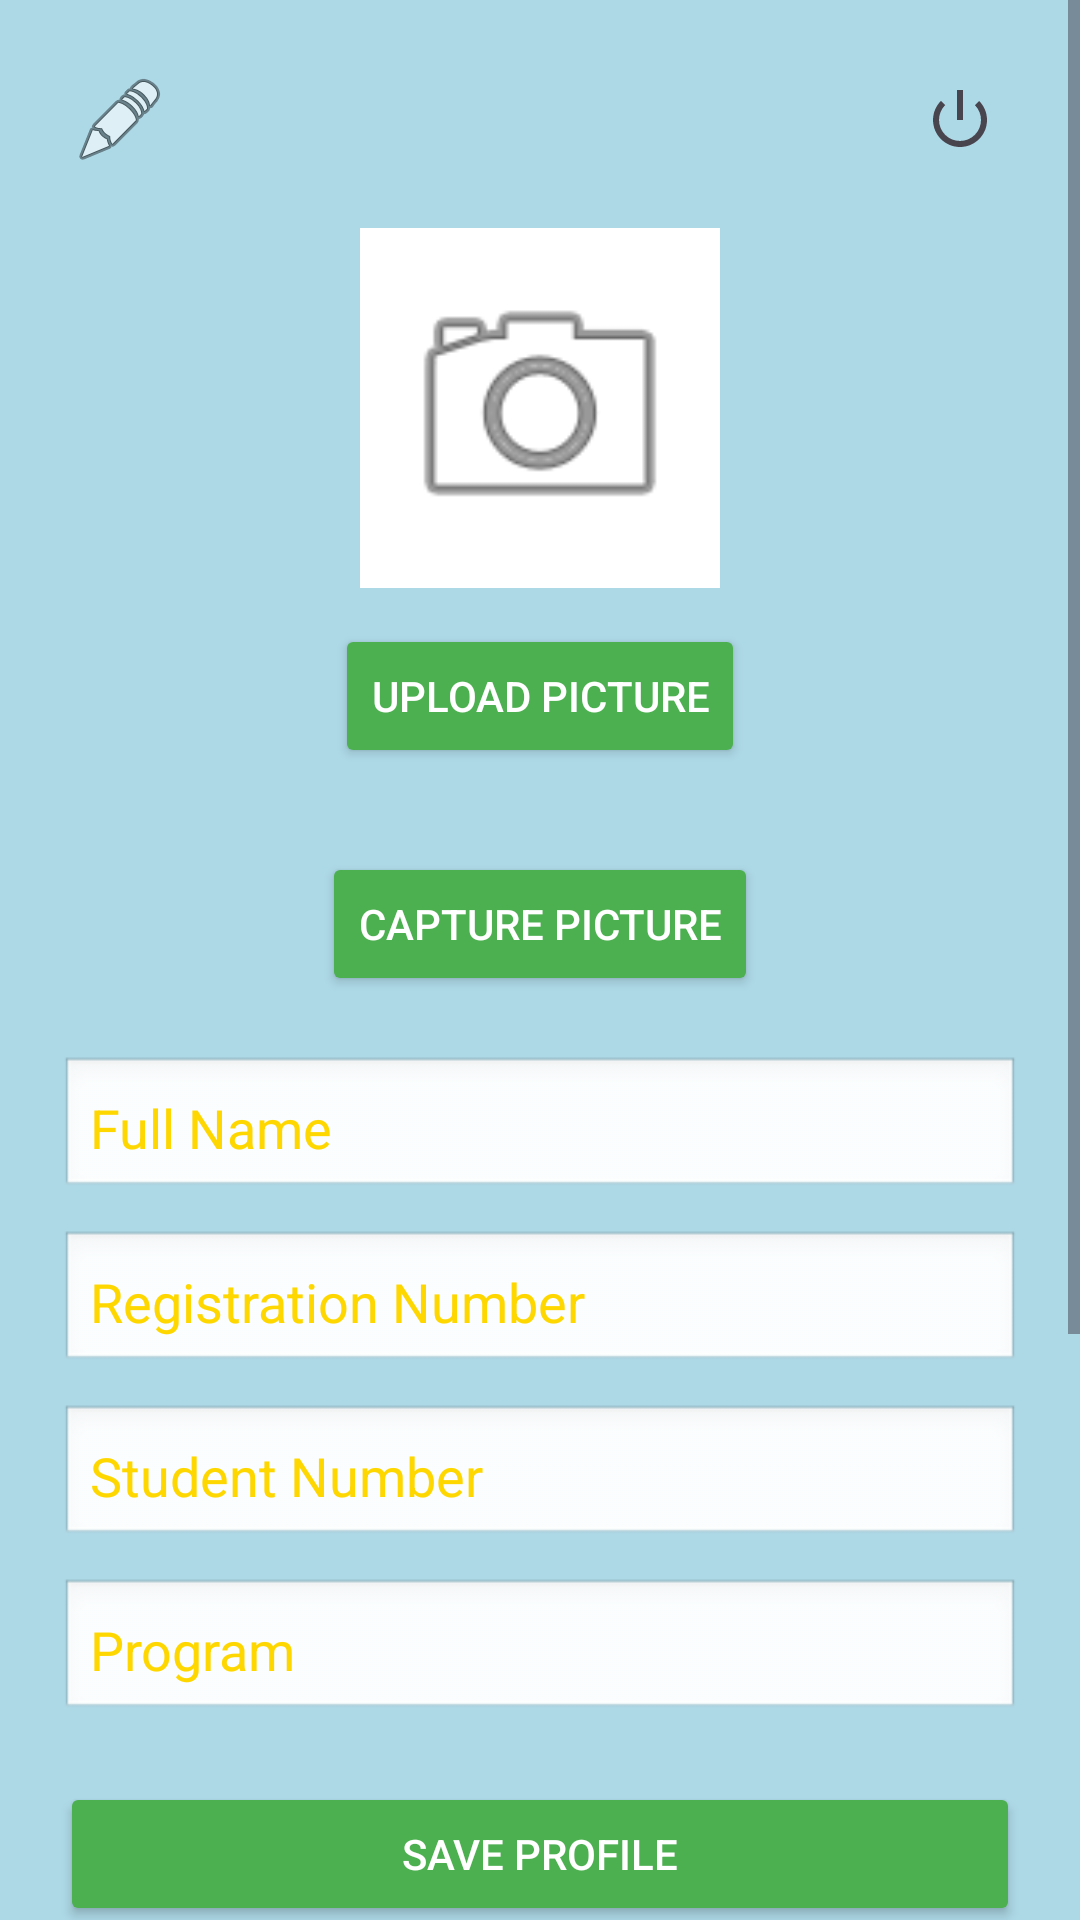

Icons on this 1080 x 1920 Android screen, each with the point to tap as [x,y]:
Edit Profile: [119,119]
Profile Picture: [540,408]
